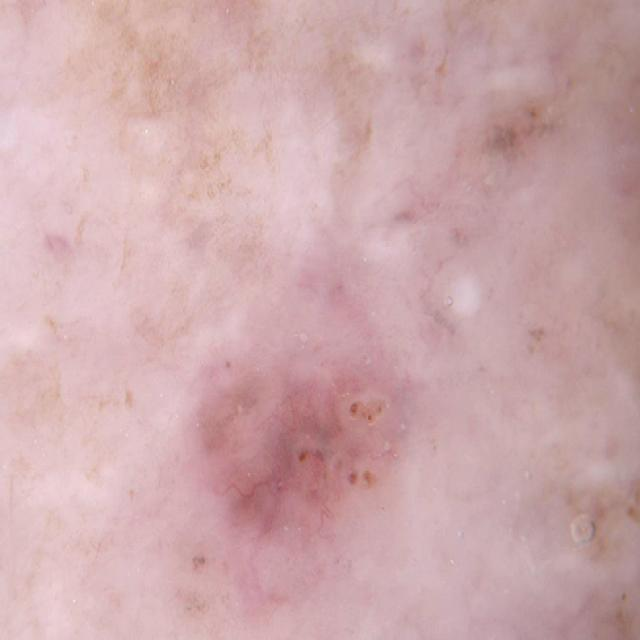Carcinoma: (135, 318, 478, 585)
